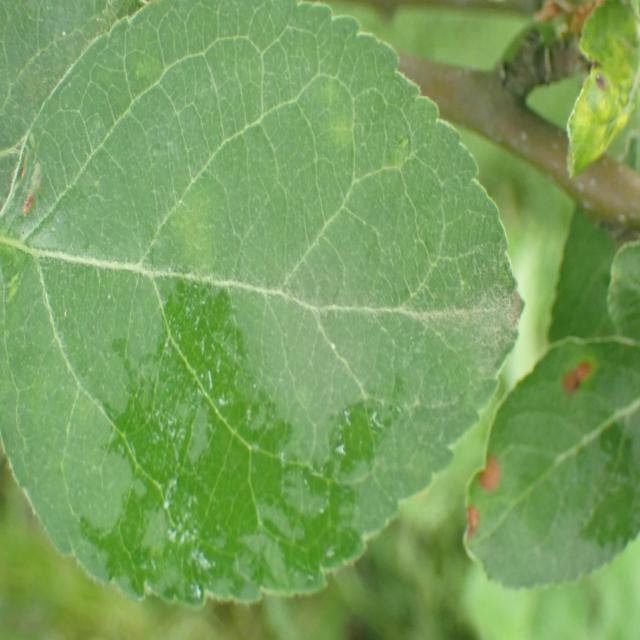Black Rot: (552, 344, 601, 407), (477, 447, 507, 497), (459, 496, 487, 546)
scab: (75, 49, 452, 384)
